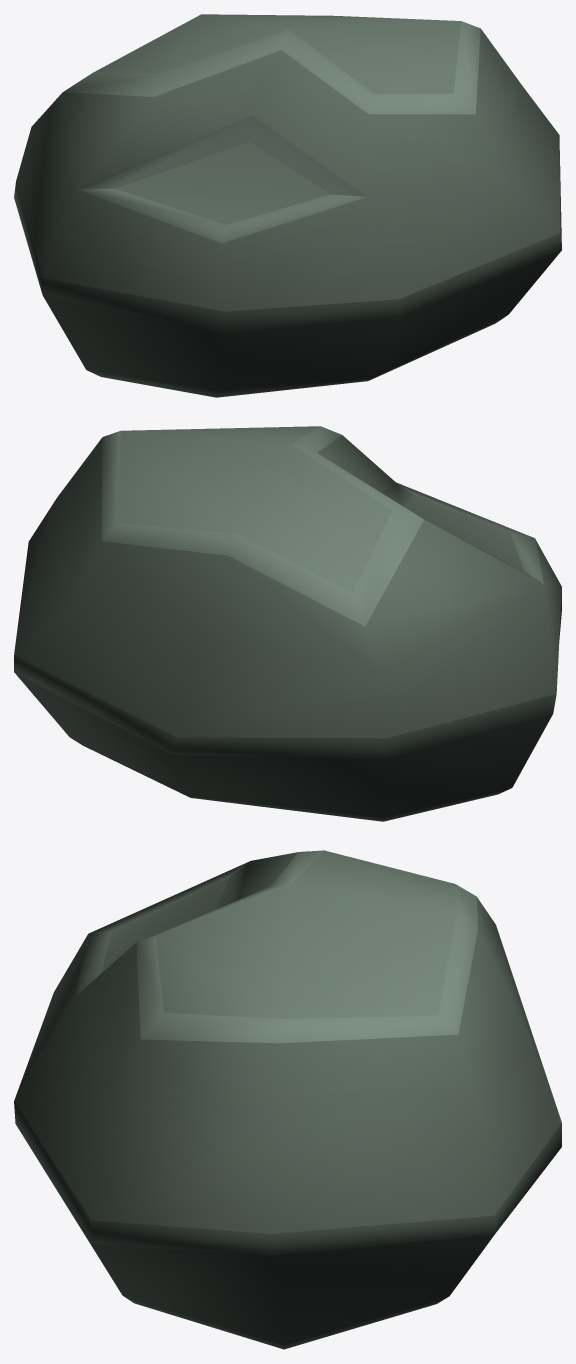
The model's file is stone_3.fbx.
3 renders of one model, top to bottom at view 1: azimuth 30°, elevation 25°; view 2: azimuth 150°, elevation 25°; view 3: azimuth 270°, elevation 25°, orthographic. The views are drawn at different scales.
Visible parts, largest first — view 1: stone_3; view 2: stone_3; view 3: stone_3.
Part boxes in pixels (box(x1,y1,x2,y2)): stone_3: box(14, 14, 561, 397); stone_3: box(14, 426, 561, 821); stone_3: box(14, 850, 561, 1349).
Size of the model in its own units: 212 by 130 by 163.
Materials: 1 (1 with a texture image).
